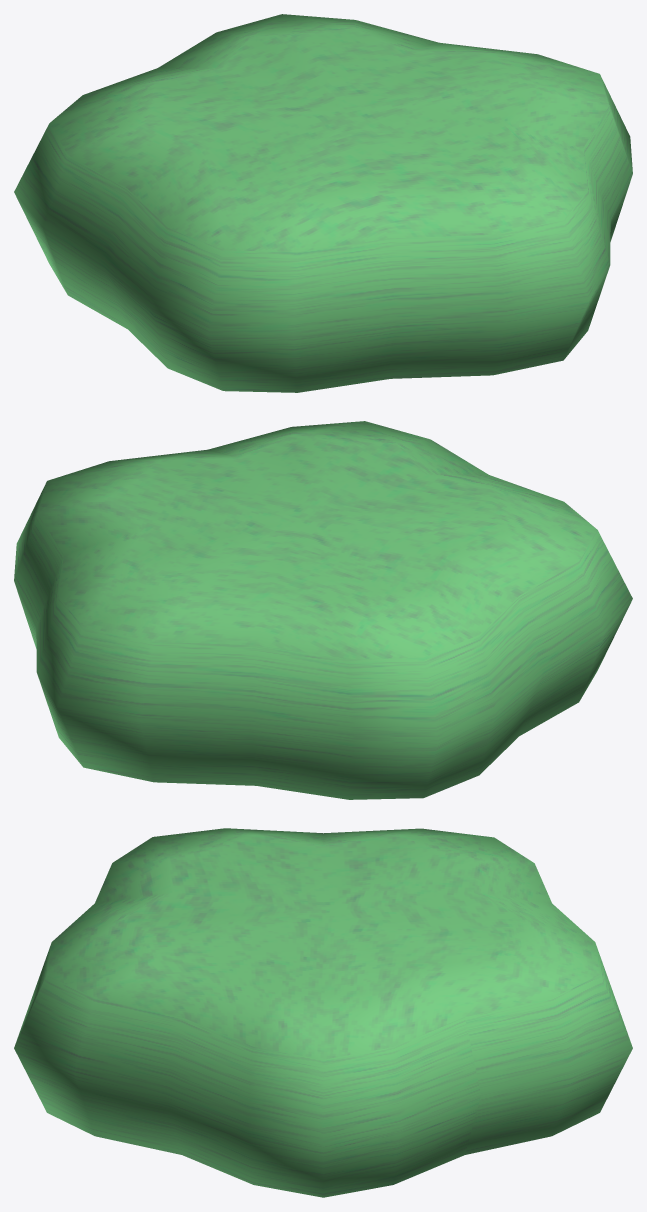
Rendered from Cereal_Star_Green.fbx.
3 renders of one model, top to bottom at view 1: azimuth 30°, elevation 25°; view 2: azimuth 150°, elevation 25°; view 3: azimuth 270°, elevation 25°, orthographic.
Visible parts, largest first — view 1: pCylinder3; view 2: pCylinder3; view 3: pCylinder3.
Part boxes in pixels (<box>): pCylinder3: <box>14,14,632,392</box>; pCylinder3: <box>14,421,632,799</box>; pCylinder3: <box>14,828,632,1197</box>.
Size of the model in its own units: 1.66 by 0.5592 by 1.7.
